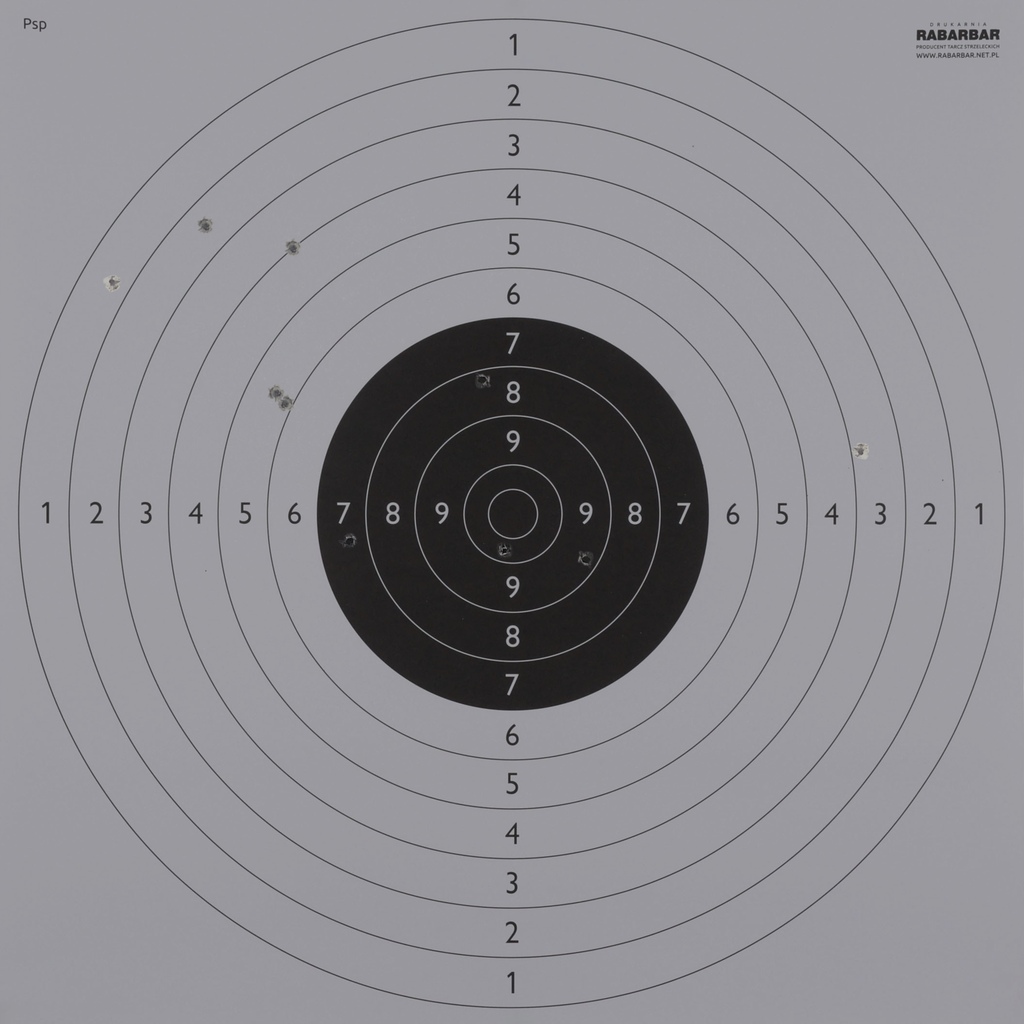0 punktow: (739, 0, 758, 12)
1 punkt: (103, 273, 122, 292)
10 punktow: (495, 542, 513, 560)
2 punkty: (197, 217, 215, 235)
3 punkty: (851, 442, 870, 461)
4 punkty: (284, 239, 302, 258)
5 punktow: (268, 384, 286, 403)
6 punktow: (276, 395, 294, 413)
7 punktow: (340, 532, 359, 550)
8 punktow: (473, 371, 492, 389)
9 punktow: (577, 550, 595, 569)
